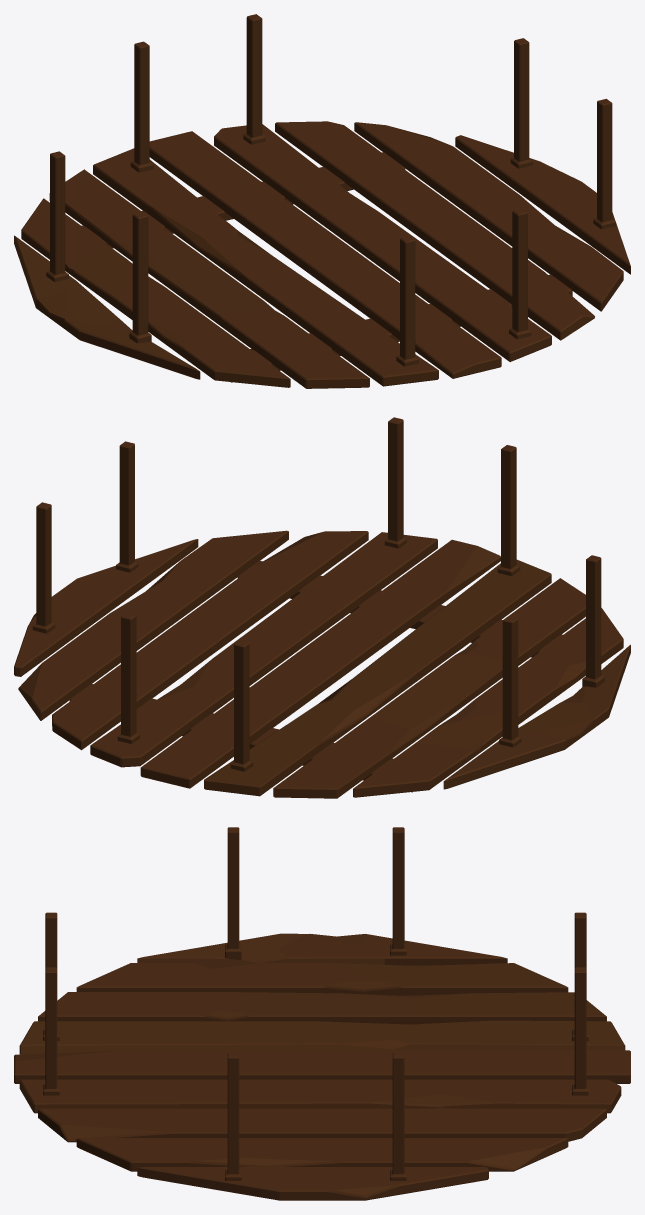
Rendered from Platform-M04C.fbx.
The picture shows the model from 3 angles, top to bottom: view 1: azimuth 30°, elevation 25°; view 2: azimuth 150°, elevation 25°; view 3: azimuth 270°, elevation 25°; orthographic projection.
Visible parts, largest first — view 1: Cube.001; view 2: Cube.001; view 3: Cube.001.
Boxes of the visible parts, box(x1,y1,x2,y2) form: Cube.001: box(14, 14, 630, 388); Cube.001: box(14, 417, 630, 798); Cube.001: box(14, 827, 630, 1200).
Size of the model in its own units: 252 by 64.44 by 255.
